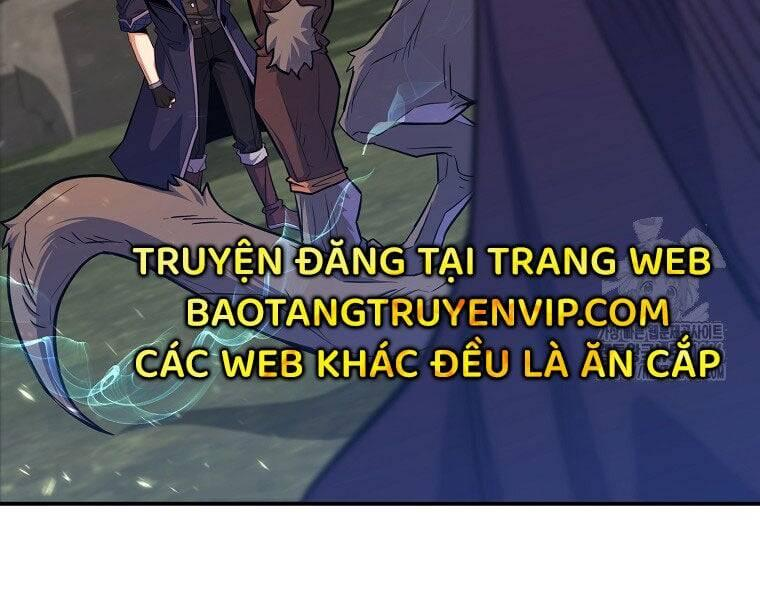quangcao: (130, 234, 726, 382)
